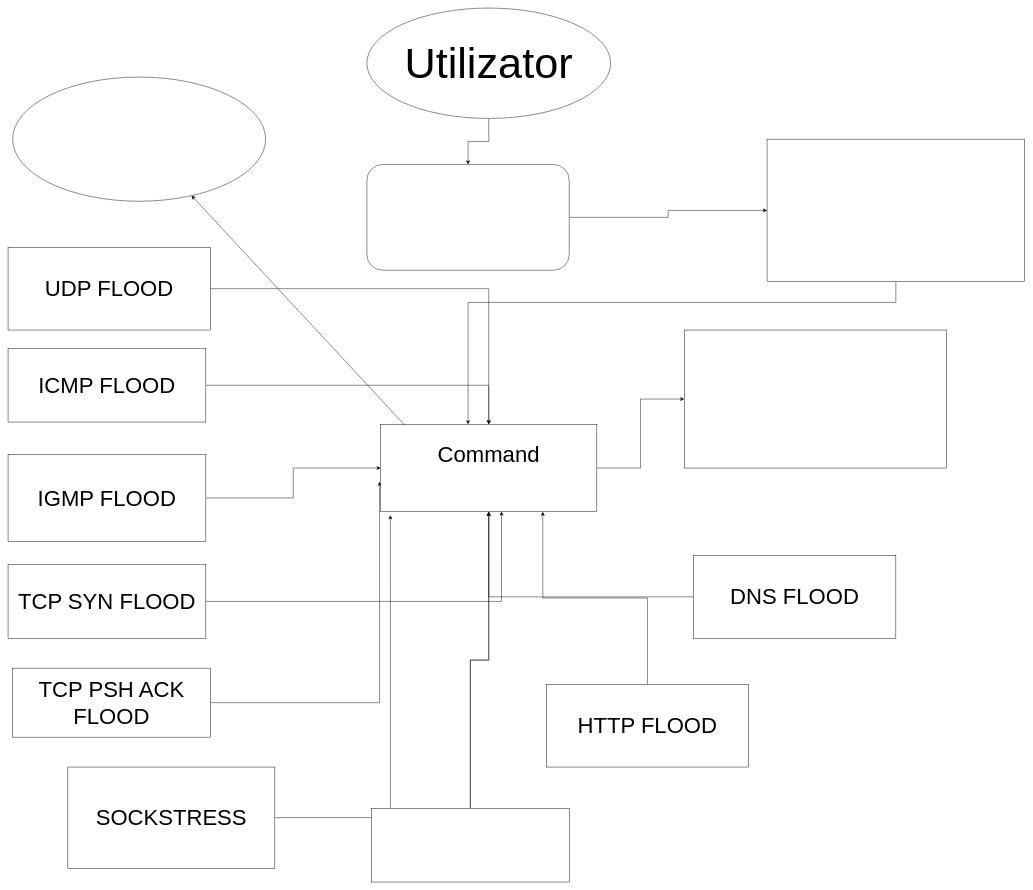
This 1033x890 diagram has some shape labels left out. The box of each missing label's shape, as (x1, y1, x2, y2) in pixels:
ARGP: (366, 164, 569, 270)
Lista circulara de erori: (684, 330, 946, 468)
Lista generica: (767, 139, 1025, 282)
TARGET: (12, 77, 266, 201)
TCP RST FLOOD: (371, 808, 569, 882)
